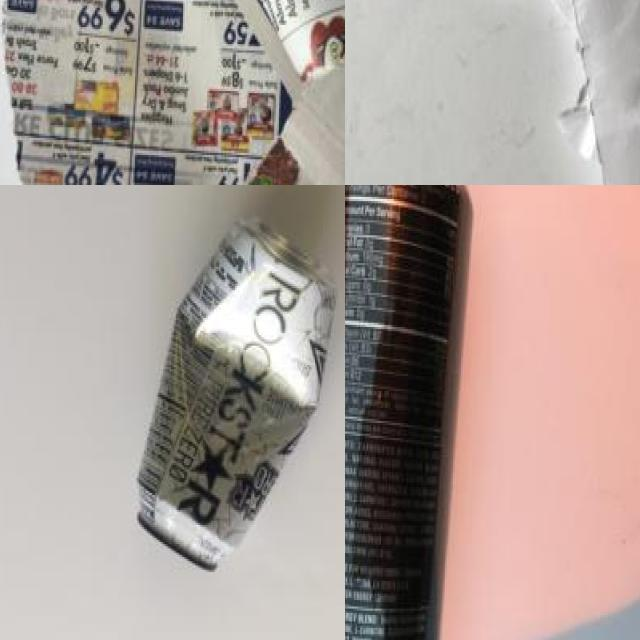paper: (12, 0, 345, 185), (541, 0, 640, 185)
plastic: (143, 208, 340, 562), (345, 185, 460, 640)
